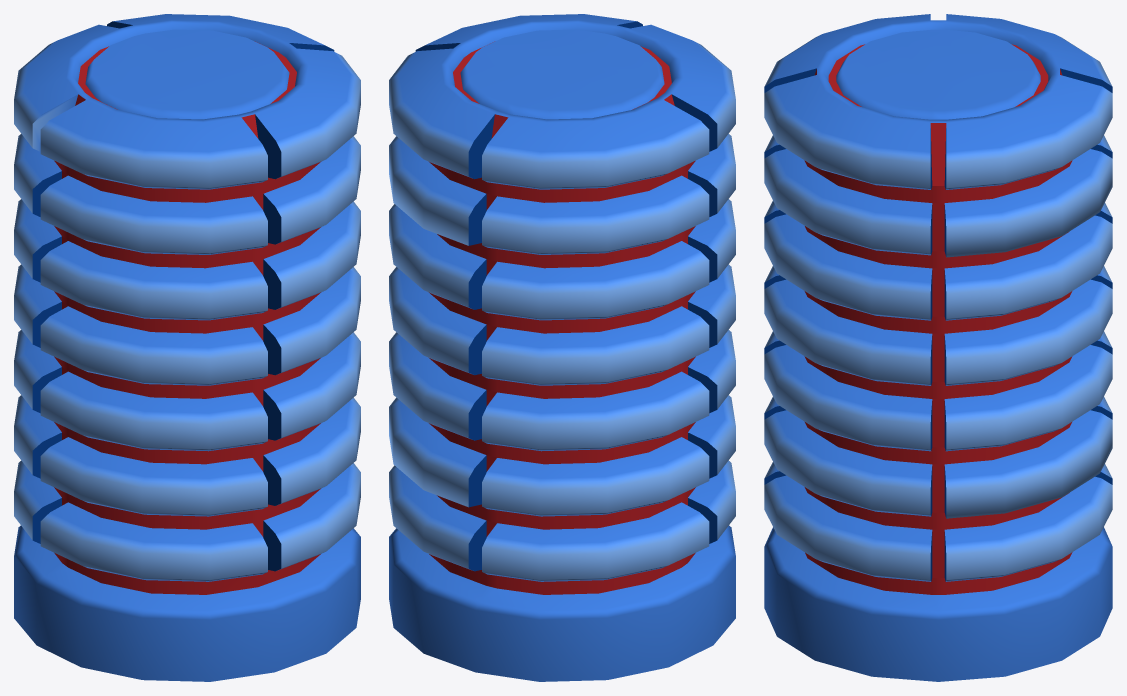
File: obstacle_8_002.fbx
3 renders of one model, left to right at view 1: azimuth 30°, elevation 25°; view 2: azimuth 150°, elevation 25°; view 3: azimuth 270°, elevation 25°, orthographic.
Visible parts, largest first — view 1: obstacle_8_002; view 2: obstacle_8_002; view 3: obstacle_8_002.
Boxes of the visible parts, x1,y1,x2,y2 form: obstacle_8_002: (14,14,360,681); obstacle_8_002: (389,14,735,681); obstacle_8_002: (764,14,1112,681).
Bounding box in the file's own units: 454 × 454 × 774.
